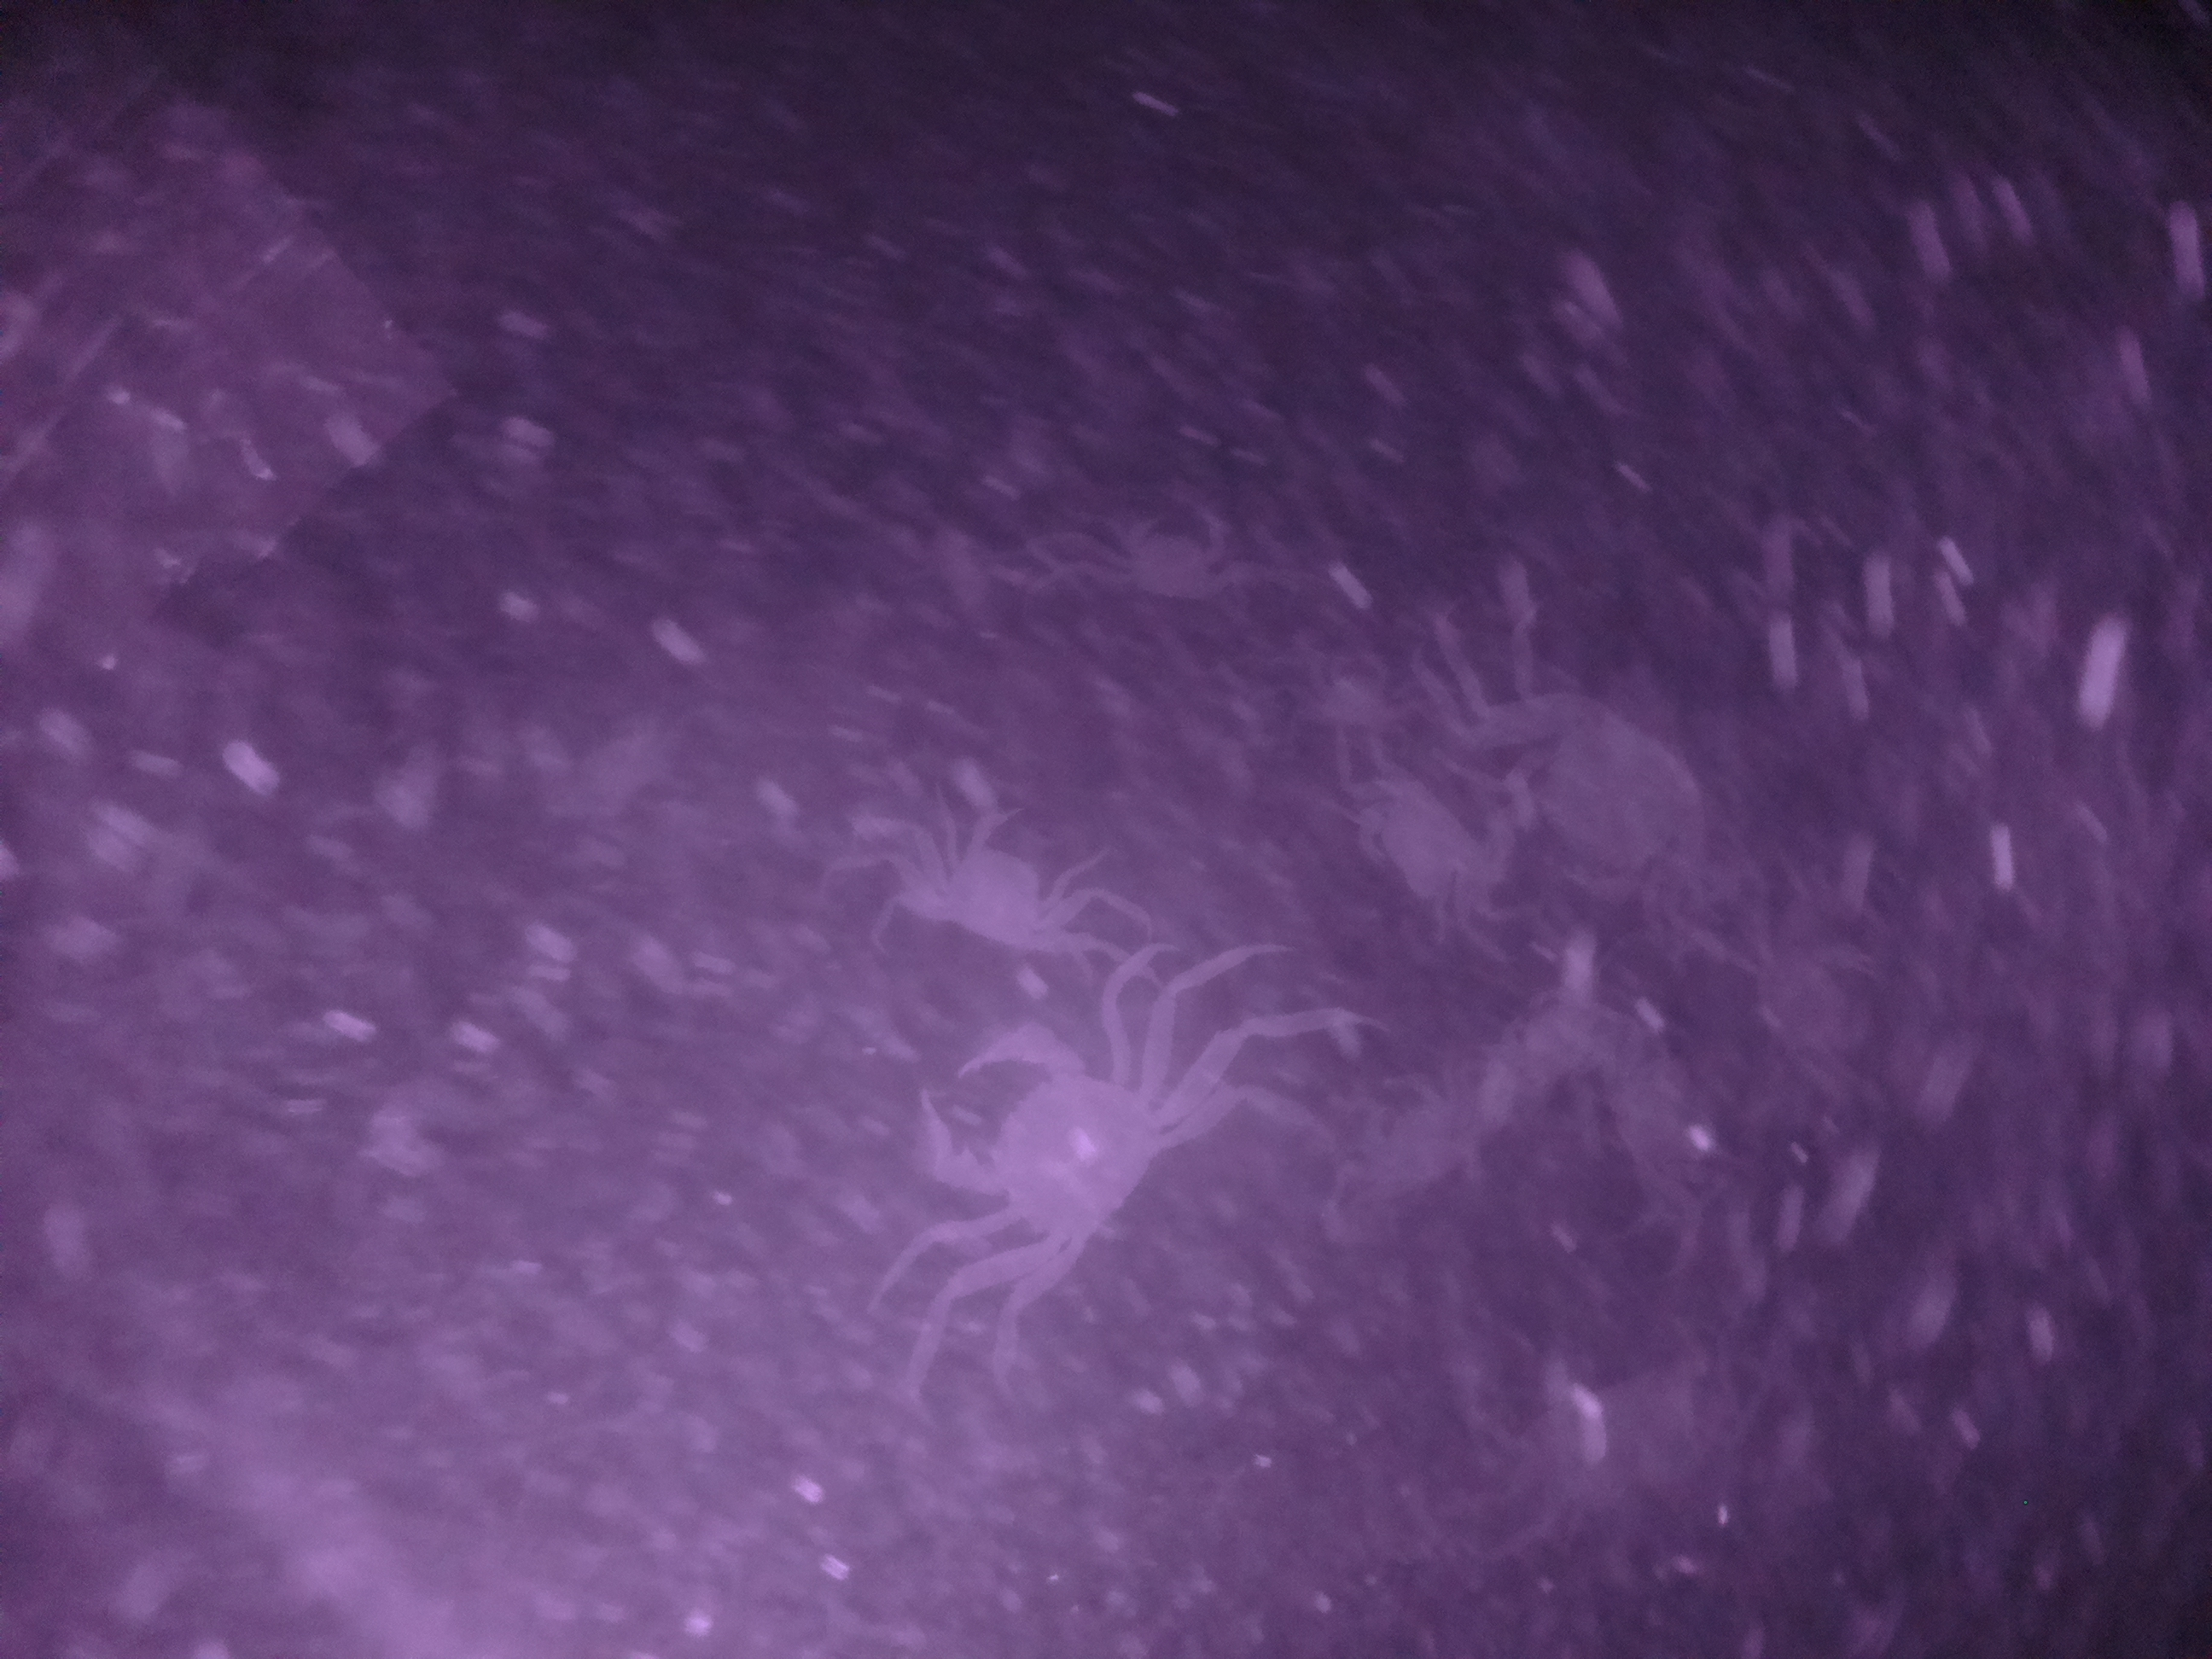Crab: (897, 1009, 1188, 1279), (900, 781, 1097, 988), (1343, 753, 1521, 927), (1094, 483, 1242, 629)
